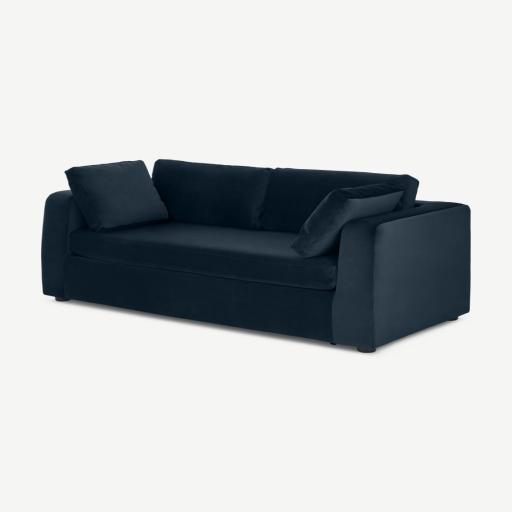back_cushion: (66, 160, 419, 258)
base: (64, 256, 334, 342)
left_arm: (333, 203, 470, 349)
right_arm: (41, 191, 85, 300)
seat_cushion: (69, 222, 337, 290)
two-seater: (0, 0, 511, 512)
